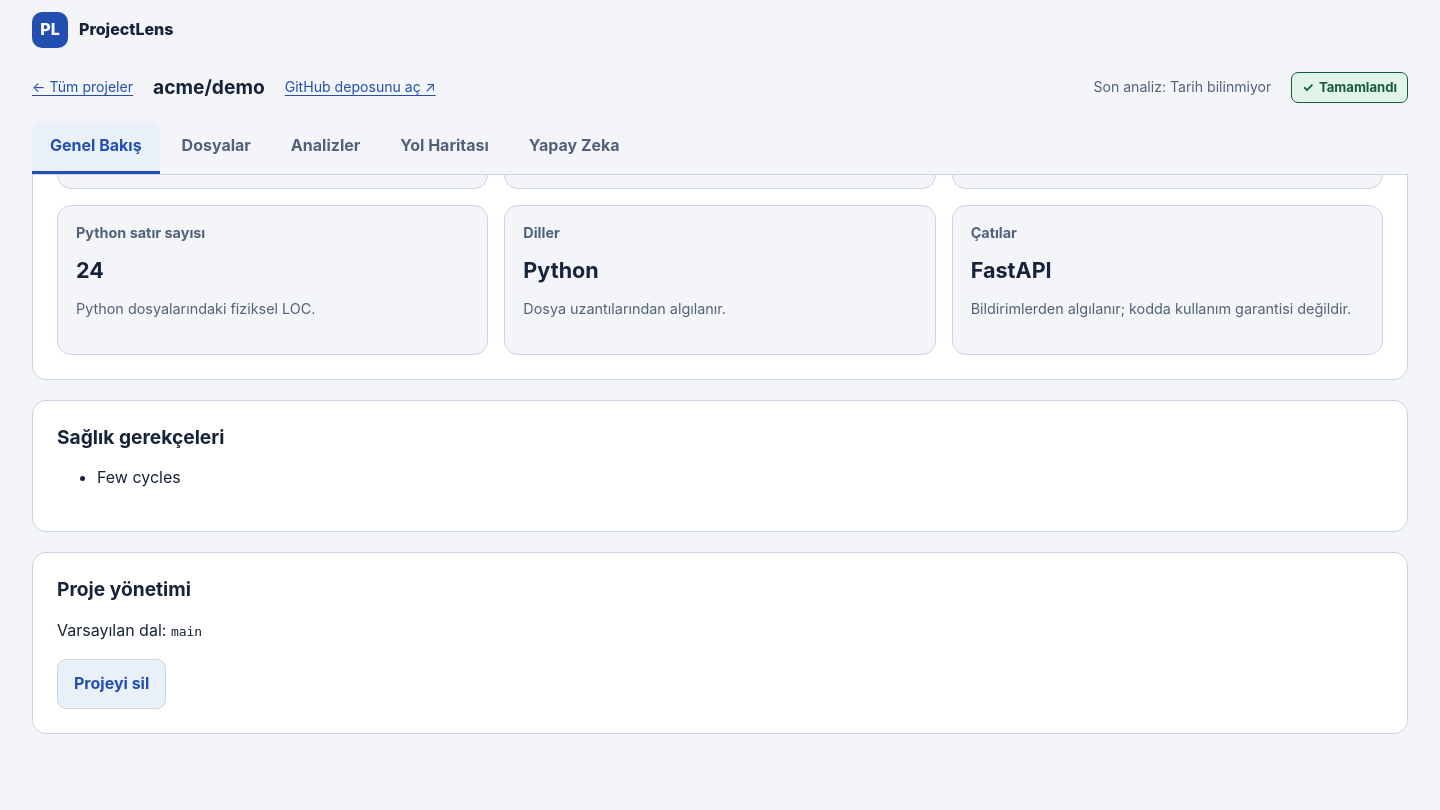
it: project screens › shows the server conflict message inline on overview deletion
The image size is (1440, 810).
(page scrolled)
Click the button "Projeyi sil". click: (112, 684)
box: 57,660 -> 166,709
(page scrolled)
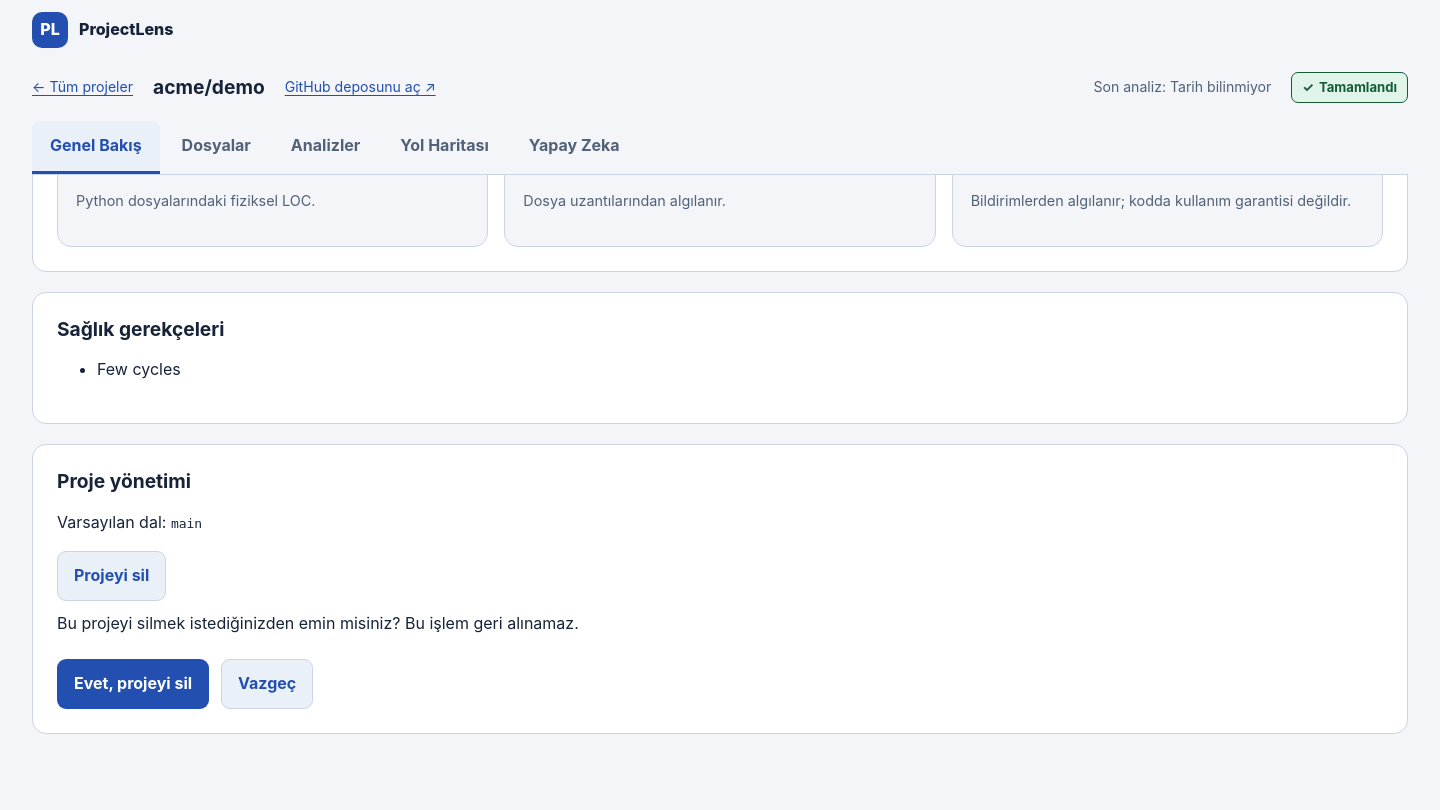
Click the button "Evet, projeyi sil". click: (133, 684)
box: 57,659 -> 209,709
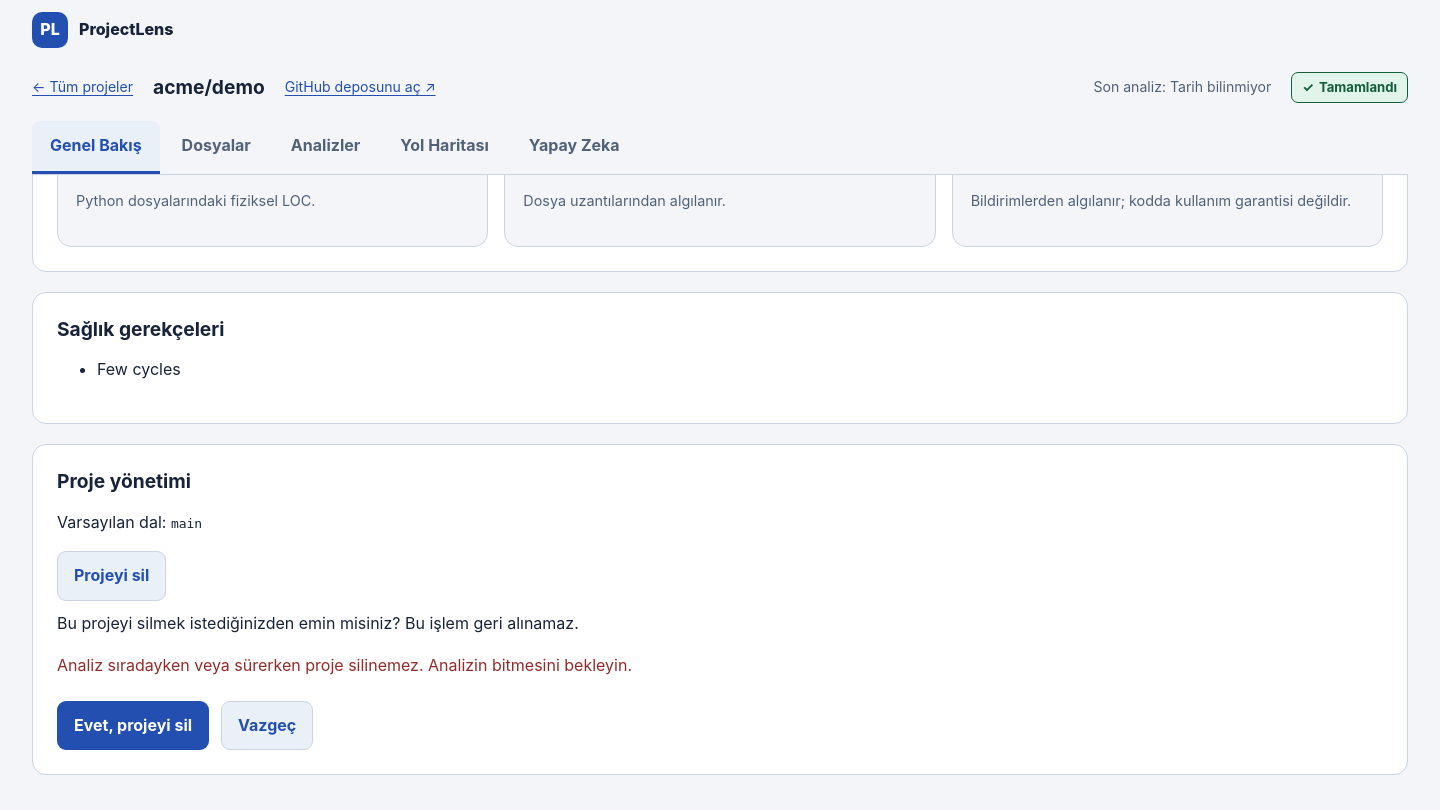
Now the message reads "Analiz sıradayken veya sürerken proje silinemez. Analizin bitmesini bekleyin.", box 57,655 -> 632,675
